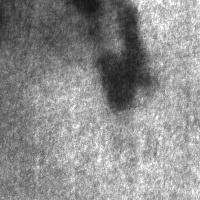patches: (0, 0, 102, 63), (97, 9, 152, 111), (48, 0, 124, 68), (69, 1, 103, 14)
